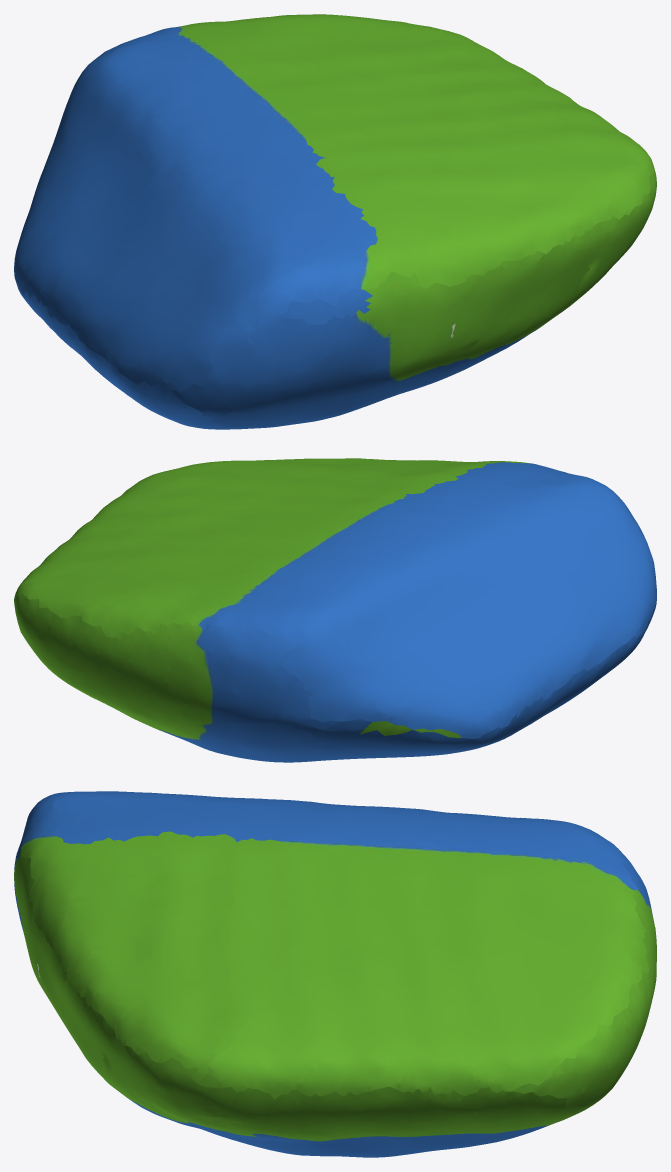
Rendered from takeoff.glb.
3 renders of one model, top to bottom at view 1: azimuth 30°, elevation 25°; view 2: azimuth 150°, elevation 25°; view 3: azimuth 270°, elevation 25°, orthographic. The views are drawn at different scales.
Visible parts, largest first — view 1: geometry_0; view 2: geometry_0; view 3: geometry_0.
Boxes of the visible parts, x1,y1,x2,y2 form: geometry_0: (14,14,656,429); geometry_0: (14,458,656,762); geometry_0: (14,791,656,1157).
Size of the model in its own units: 0.8957 by 0.3814 by 0.8691.
Materials: 1 (1 with a texture image).
